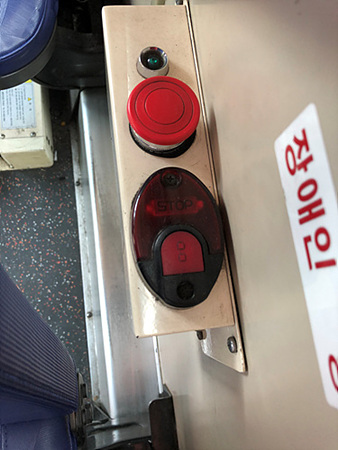bell: (130, 165, 229, 309)
